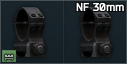Nightforce Magmount 30mm rings: (0, 0, 127, 64)
